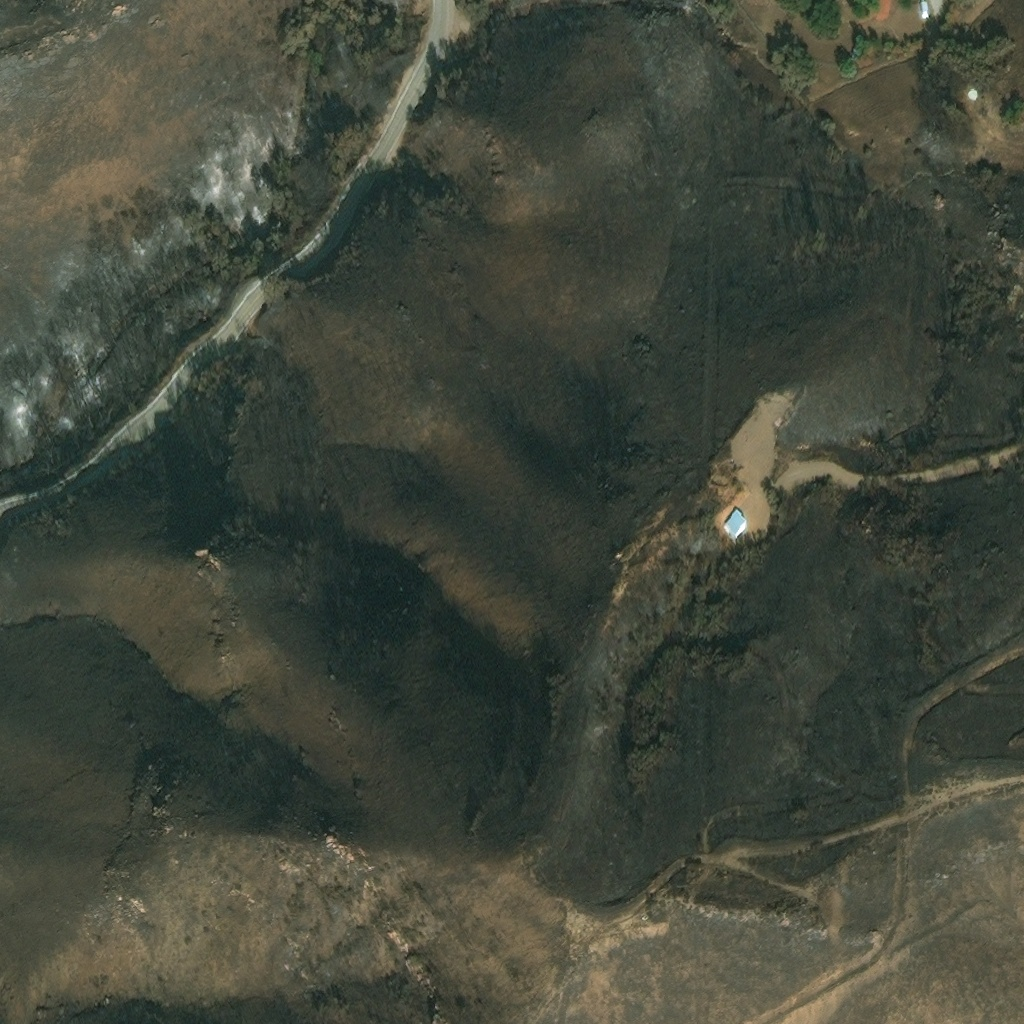0 no-damage: (722, 506, 749, 538), (920, 0, 930, 17), (967, 90, 979, 102)
